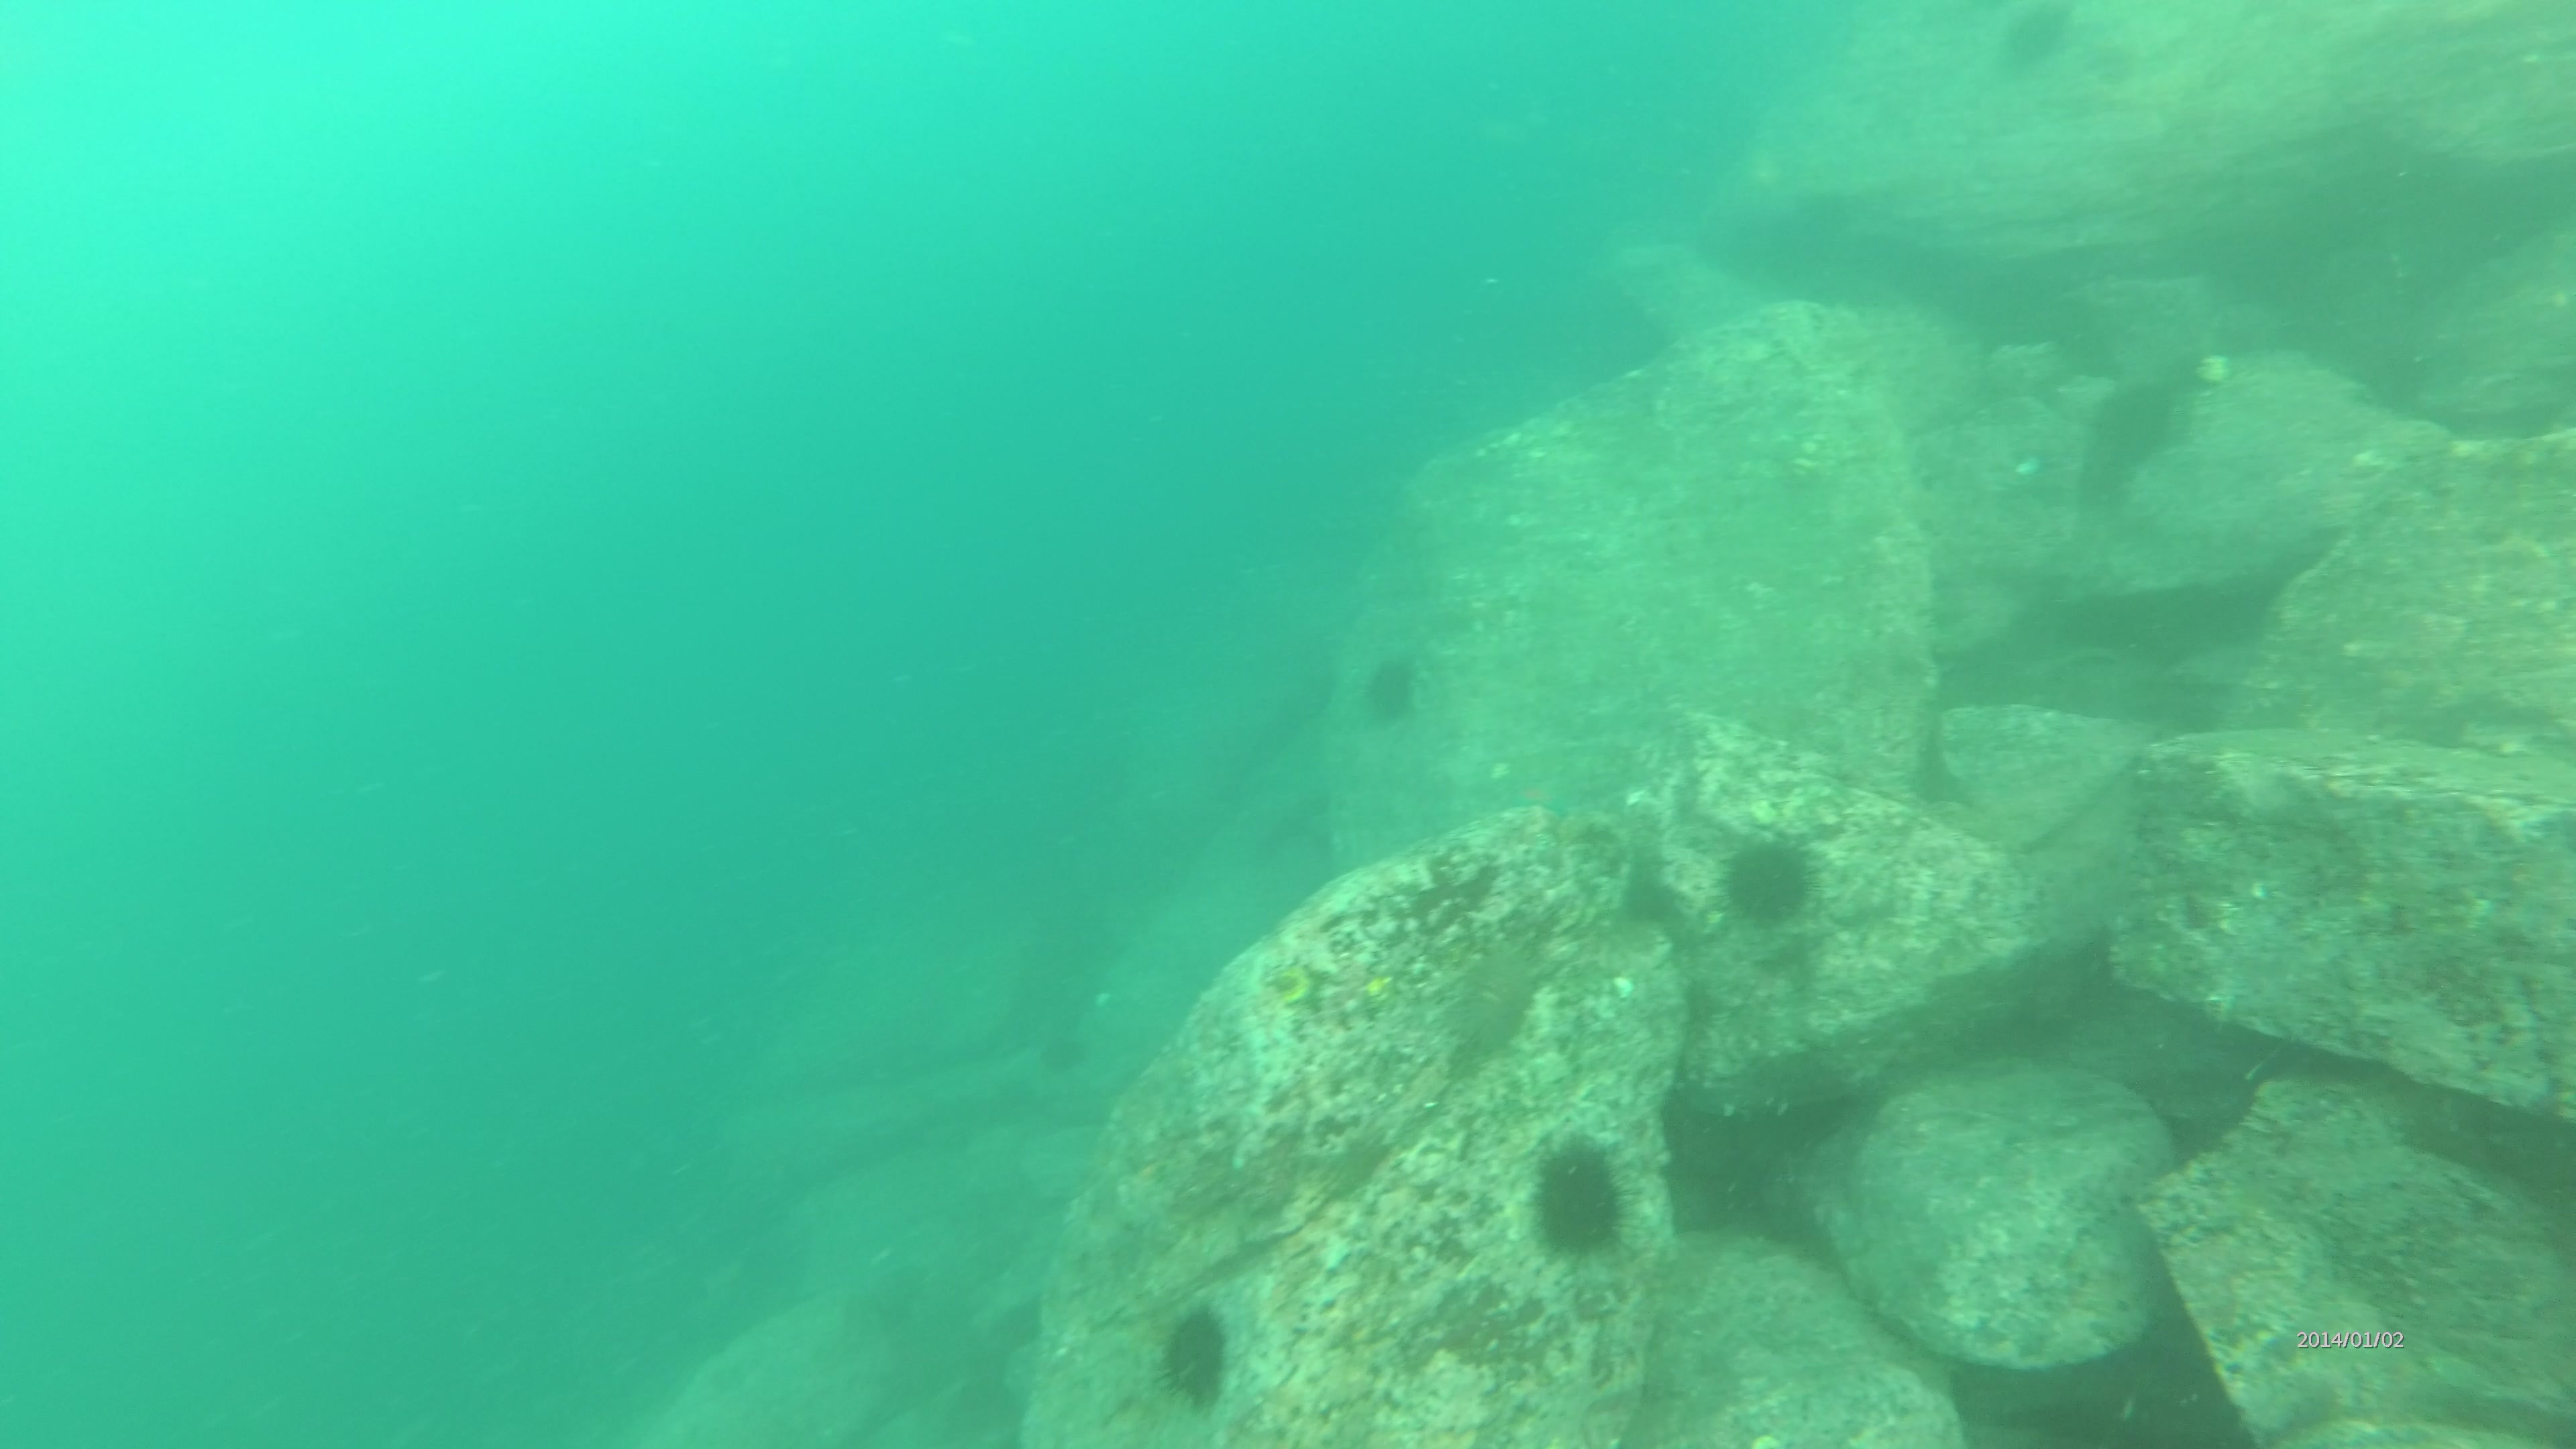echinus: (1530, 1131, 1635, 1276), (1716, 828, 1833, 936), (1157, 1288, 1238, 1417), (1362, 655, 1426, 736), (1042, 1030, 1093, 1083)
